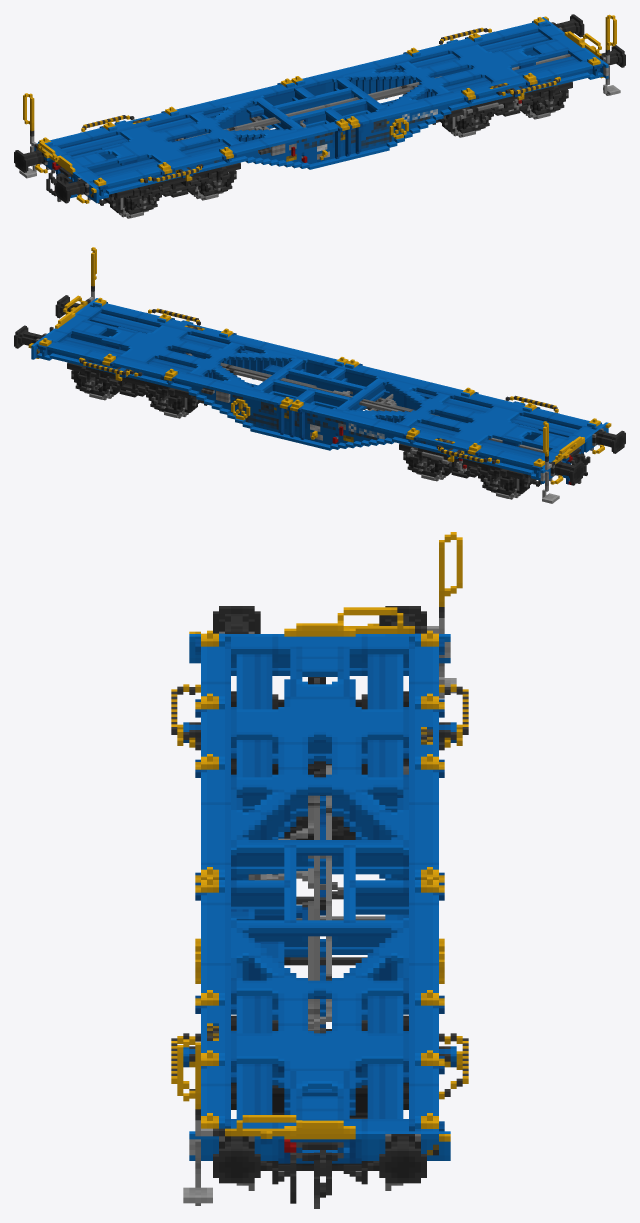
The model's file is eurowagon_sgmmns_40.obj.
3 renders of one model, top to bottom at view 1: azimuth 30°, elevation 25°; view 2: azimuth 150°, elevation 25°; view 3: azimuth 270°, elevation 25°, orthographic. The views are drawn at different scales.
Visible parts, largest first — view 1: FRAME_1, Braker, BOGEY_FRONT_Frame, BOGEY_REAR_Frame, BOGEY_FRONT_Primary_Suspension, BOGEY_REAR_Primary_Suspension, WIDGET_69_TOGGLE_CG_h2_HIDE, WIDGET_68_TOGGLE_CG_h1_HIDE, BOGEY_FRONT_Brakes, BOGEY_REAR_Brake; view 2: FRAME_1, Braker, BOGEY_FRONT_Frame, BOGEY_REAR_Frame, BOGEY_REAR_Primary_Suspension, BOGEY_FRONT_Primary_Suspension; view 3: FRAME_1, Braker, BOGEY_REAR_Frame, BOGEY_FRONT_Frame, WIDGET_70_TOGGLE_CG_h2_HIDE_INVERT, WIDGET_67_TOGGLE_CG_h1_HIDE_INVERT, WIDGET_68_TOGGLE_CG_h1_HIDE, WIDGET_69_TOGGLE_CG_h2_HIDE.
Part boxes in pixels (x1=…): FRAME_1: x1=14, y1=14, x2=625, y2=203; Braker: x1=175, y1=54, x2=570, y2=162; BOGEY_FRONT_Frame: x1=98, y1=162, x2=240, y2=205; BOGEY_REAR_Frame: x1=406, y1=81, x2=572, y2=124; BOGEY_FRONT_Primary_Suspension: x1=124, y1=169, x2=232, y2=214; BOGEY_REAR_Primary_Suspension: x1=456, y1=88, x2=564, y2=133; WIDGET_69_TOGGLE_CG_h2_HIDE: x1=605, y1=14, x2=616, y2=63; WIDGET_68_TOGGLE_CG_h1_HIDE: x1=23, y1=93, x2=34, y2=143; BOGEY_FRONT_Brakes: x1=103, y1=170, x2=236, y2=213; BOGEY_REAR_Brake: x1=403, y1=89, x2=568, y2=132; FRAME_1: x1=14, y1=295, x2=625, y2=503; Braker: x1=185, y1=352, x2=544, y2=452; BOGEY_FRONT_Frame: x1=399, y1=443, x2=541, y2=486; BOGEY_REAR_Frame: x1=67, y1=362, x2=233, y2=405; BOGEY_REAR_Primary_Suspension: x1=75, y1=369, x2=183, y2=414; BOGEY_FRONT_Primary_Suspension: x1=407, y1=450, x2=515, y2=495; FRAME_1: x1=171, y1=606, x2=468, y2=1208; Braker: x1=231, y1=765, x2=408, y2=1033; BOGEY_REAR_Frame: x1=231, y1=1015, x2=408, y2=1184; BOGEY_FRONT_Frame: x1=231, y1=691, x2=408, y2=839; WIDGET_70_TOGGLE_CG_h2_HIDE_INVERT: x1=195, y1=1115, x2=302, y2=1136; WIDGET_67_TOGGLE_CG_h1_HIDE_INVERT: x1=337, y1=607, x2=444, y2=633; WIDGET_68_TOGGLE_CG_h1_HIDE: x1=439, y1=532, x2=462, y2=633; WIDGET_69_TOGGLE_CG_h2_HIDE: x1=177, y1=1037, x2=200, y2=1135.
Bounding box in the file's own units: 13.56 × 2.31 × 3.12.
1 material, 1 textured.
